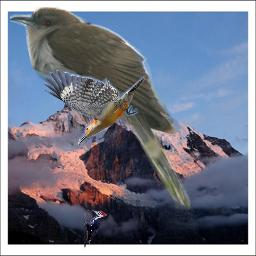Cuckoo: (10, 7, 191, 213)
Woodpecker: (41, 69, 145, 146), (84, 210, 107, 249)
